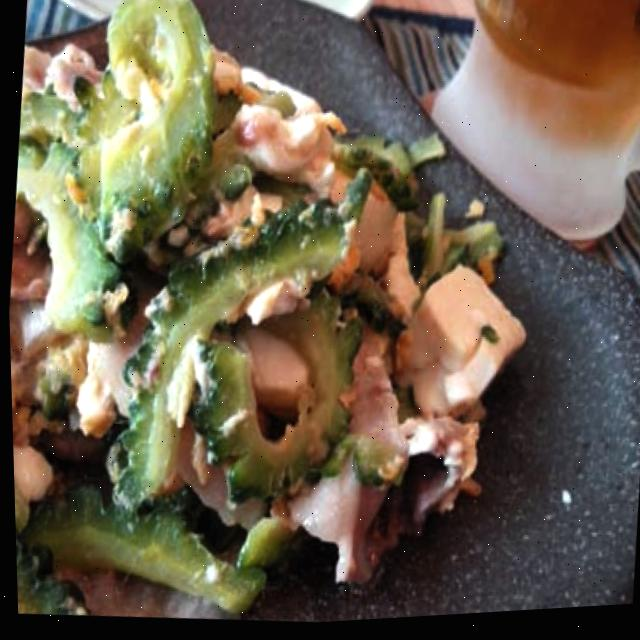熟制海鲜: (0, 0, 566, 640)
